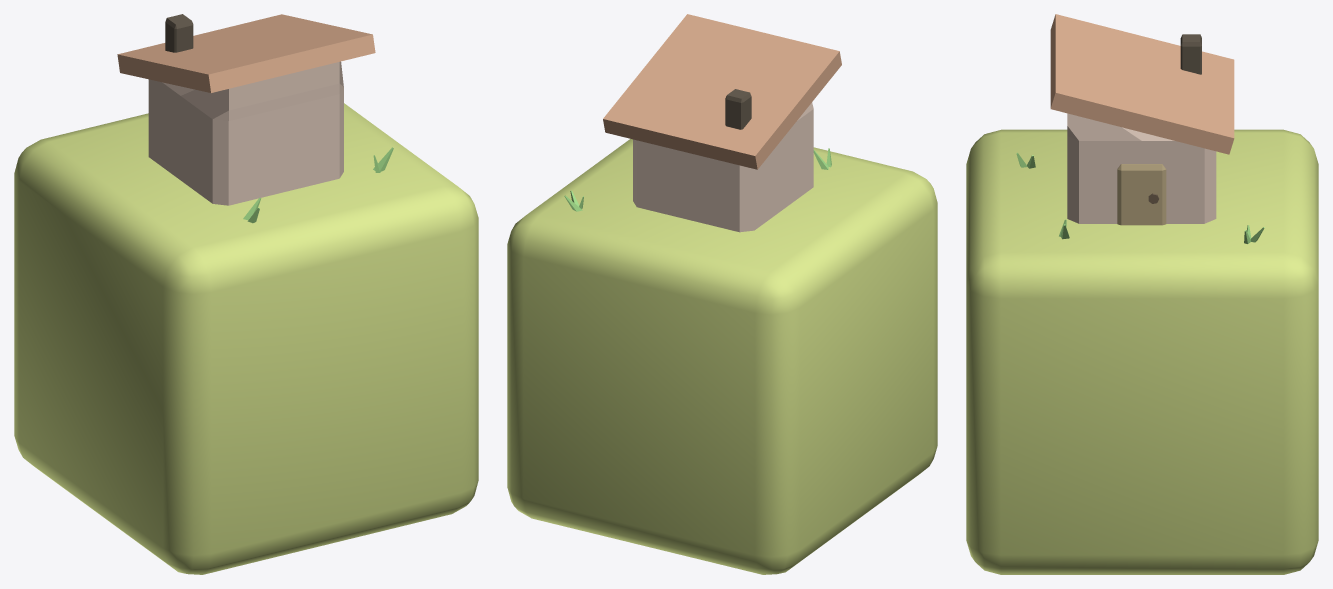
Rendered from village2.fbx.
3 views of the same model, side by side, from view 1: azimuth 30°, elevation 25°; view 2: azimuth 150°, elevation 25°; view 3: azimuth 270°, elevation 25° (orthographic). The views are drawn at different scales.
Parts seen in each view (by area): view 1: Cube.099, Cube.098, Cube.095, Cube.089; view 2: Cube.099, Cube.095, Cube.098, Cube.089; view 3: Cube.099, Cube.095, Cube.098, Cube.097, Cube.089.
Part boxes in pixels (x1=…): Cube.099: x1=14, y1=103, x2=478, y2=574; Cube.098: x1=148, y1=61, x2=343, y2=205; Cube.095: x1=117, y1=14, x2=375, y2=92; Cube.089: x1=165, y1=14, x2=193, y2=52; Cube.099: x1=507, y1=139, x2=937, y2=574; Cube.095: x1=603, y1=14, x2=841, y2=169; Cube.098: x1=633, y1=102, x2=813, y2=232; Cube.089: x1=725, y1=89, x2=751, y2=129; Cube.099: x1=966, y1=129, x2=1318, y2=574; Cube.095: x1=1050, y1=14, x2=1234, y2=154; Cube.098: x1=1067, y1=113, x2=1216, y2=223; Cube.097: x1=1117, y1=164, x2=1166, y2=225; Cube.089: x1=1180, y1=34, x2=1201, y2=74.
Size of the model in its own units: 200 by 287 by 200.
